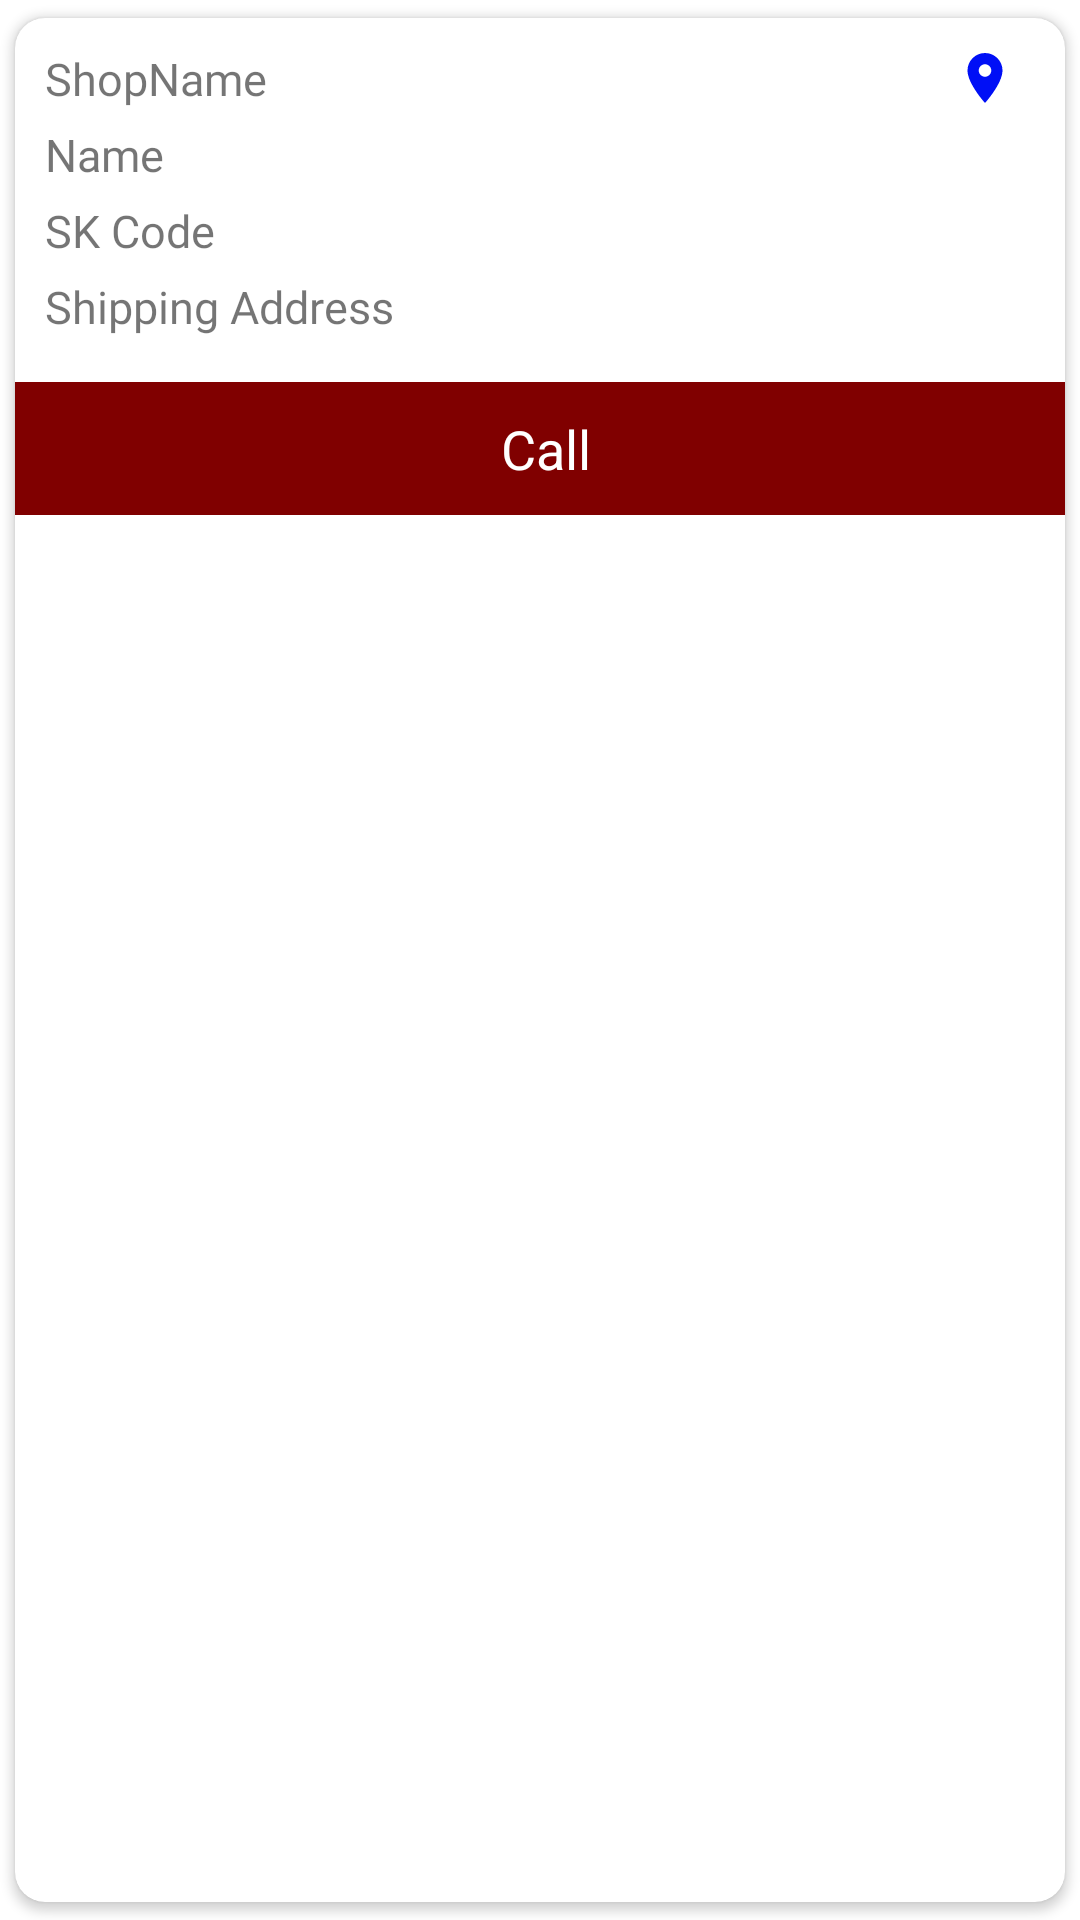

Icon bounding boxes for this 1080 × 1920 phone screenshot, format (x1, y1, x2, y2):
location: (967, 53, 1003, 103)
